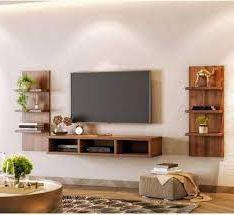TV: (67, 70, 153, 123)
clock: (0, 168, 70, 215), (73, 124, 85, 136)
console: (47, 132, 164, 159)
